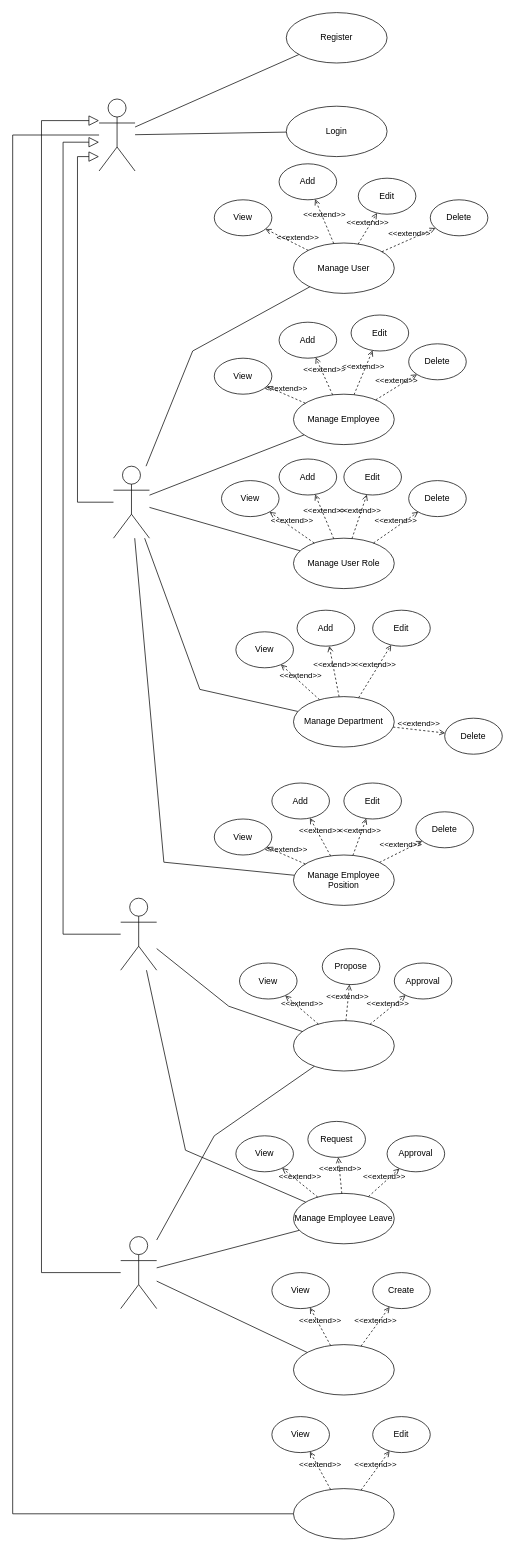
Some shapes in this 515 by 1552 pixel diagram are drawn without their labels. The shapes that lost their labels are listed below. From the top down, each one's box as (x1, y1, x2, y2) in pixels, then its label:
(98, 98, 135, 171): User
(113, 465, 149, 538): Admin
(120, 897, 157, 970): Staff
(293, 1020, 394, 1071): Manage Employee Schedule
(120, 1236, 157, 1309): Officer
(293, 1344, 394, 1395): Manage Report
(293, 1488, 394, 1539): Manage Profile
